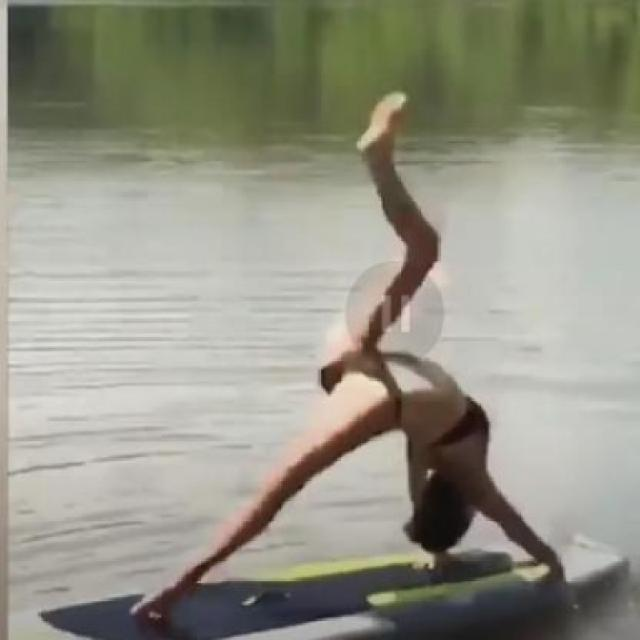fall: (132, 78, 580, 634)
